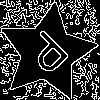P: (22, 27, 78, 84)
